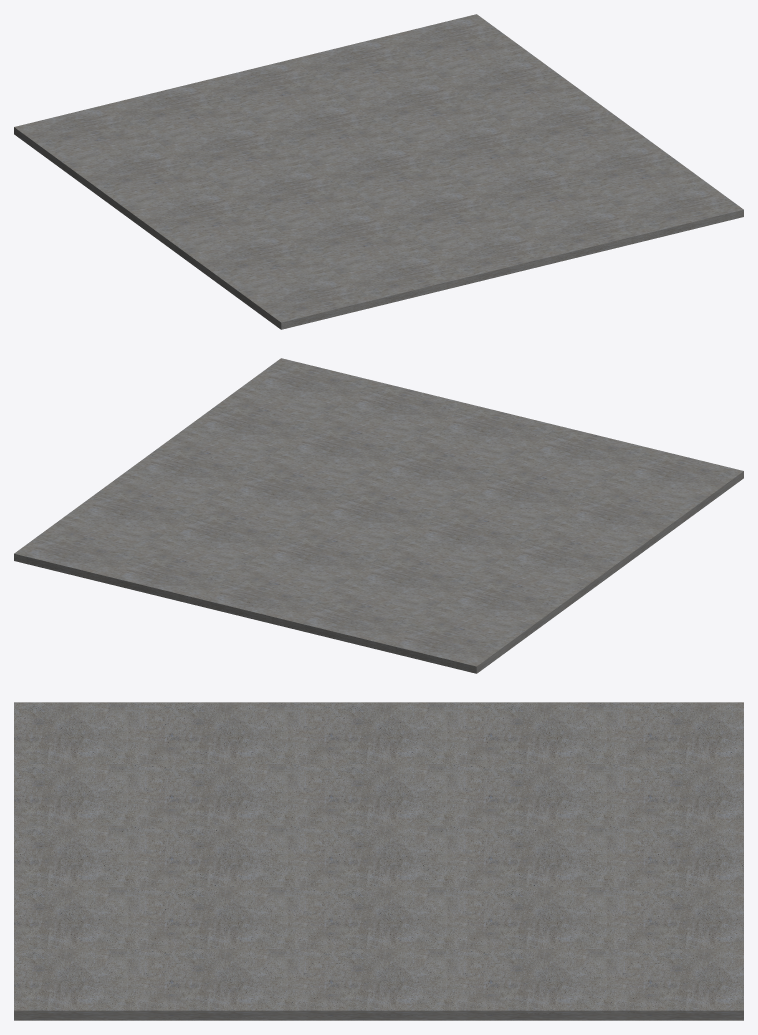
Rendered from ConcreteCeiling.fbx.
The picture shows the model from 3 angles, top to bottom: view 1: azimuth 30°, elevation 25°; view 2: azimuth 150°, elevation 25°; view 3: azimuth 270°, elevation 25°; orthographic projection. The views are drawn at different scales.
Parts seen in each view (by area): view 1: ConcreteCeiling; view 2: ConcreteCeiling; view 3: ConcreteCeiling.
Part boxes in pixels (bbox=[...]): ConcreteCeiling: bbox=[14, 14, 743, 329]; ConcreteCeiling: bbox=[14, 358, 743, 673]; ConcreteCeiling: bbox=[14, 702, 743, 1020].
Size of the model in its own units: 5 by 0.075 by 5.
